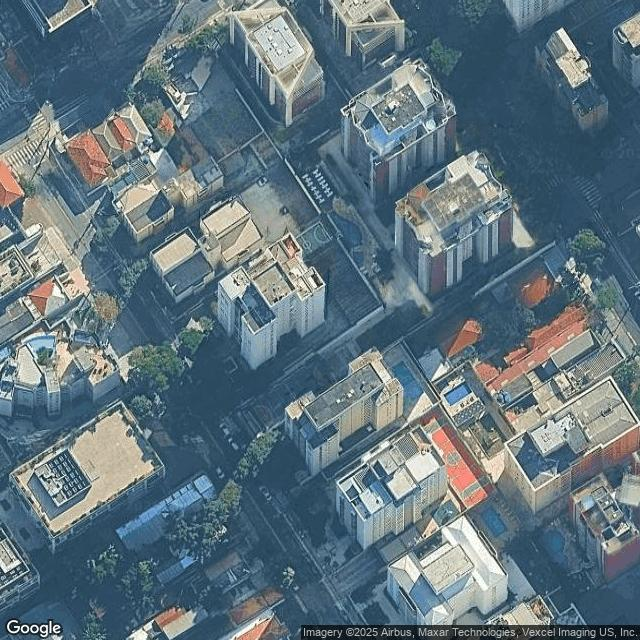pool: (44, 344, 56, 375), (557, 544, 570, 568), (350, 232, 362, 254), (494, 523, 504, 543)
